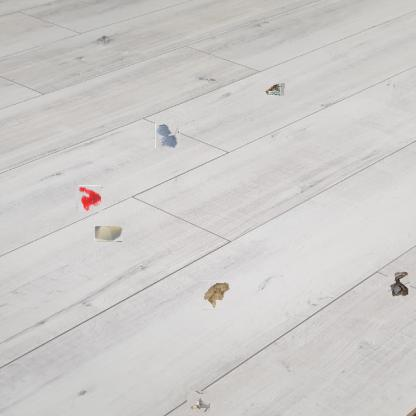dirty: (201, 281, 231, 309), (388, 269, 410, 299), (94, 225, 123, 242), (263, 80, 287, 98), (188, 393, 208, 414)
liquid: (77, 186, 102, 212), (155, 123, 179, 148)
